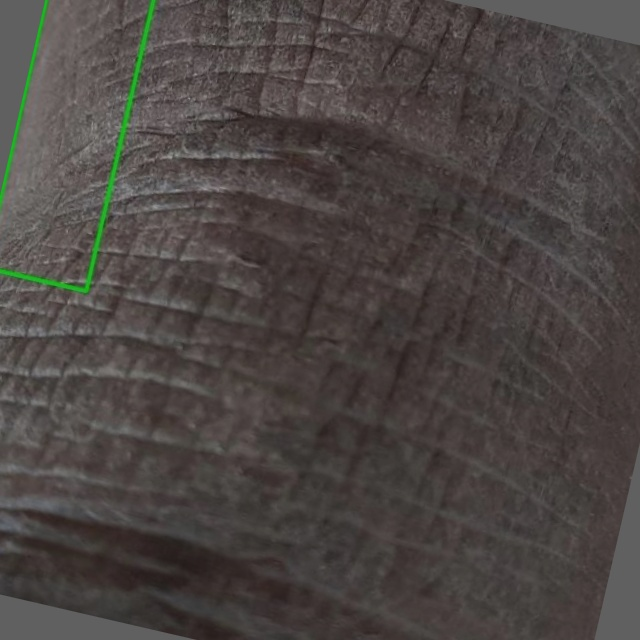Eczema: (0, 0, 153, 291)
